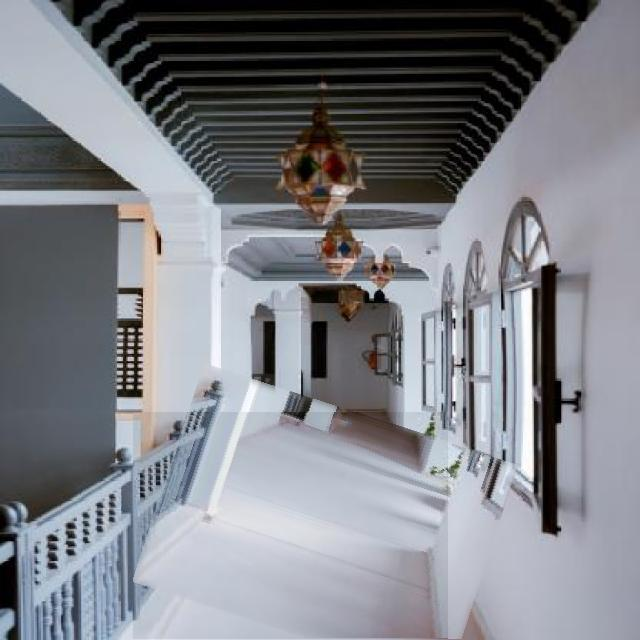floor: (134, 413, 448, 639)
